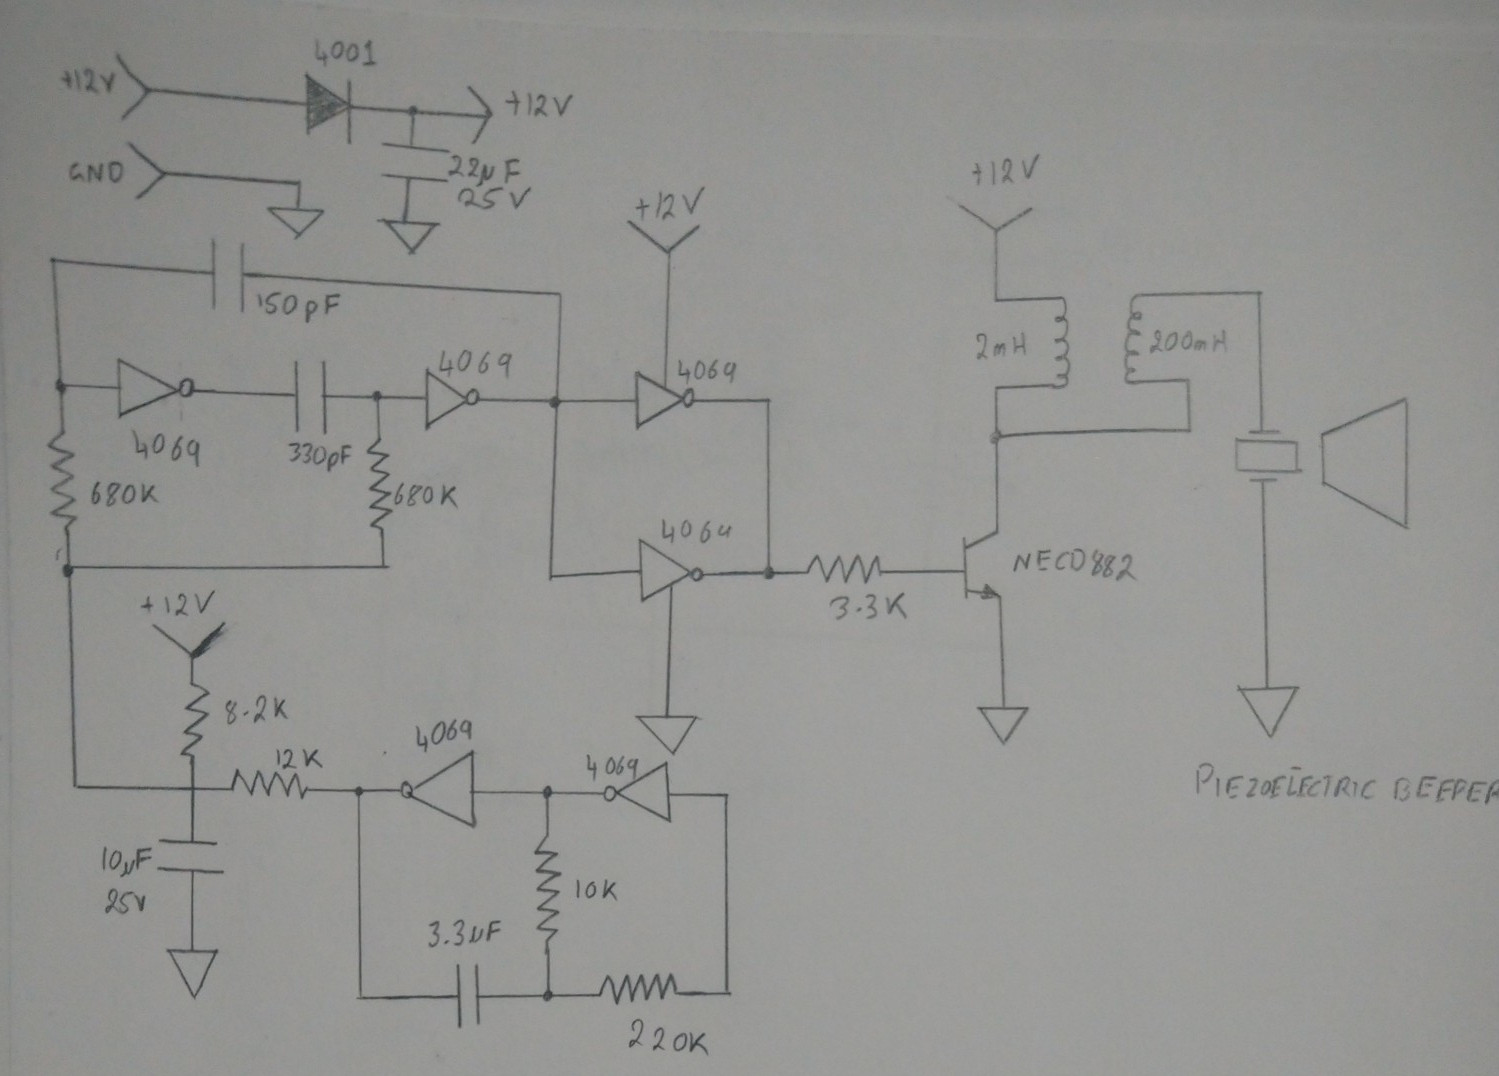capacitor.unpolarized: (372, 130, 452, 202), (286, 355, 333, 439), (203, 234, 249, 316), (154, 832, 227, 878), (448, 960, 486, 1032)
crossover: (182, 778, 209, 799)
diode: (292, 71, 365, 154)
gnd: (1226, 675, 1310, 742), (371, 212, 445, 262), (632, 706, 699, 758), (260, 200, 331, 245), (972, 701, 1037, 749), (164, 945, 216, 1002)
inductor: (1044, 290, 1084, 396), (1116, 286, 1148, 390)
junction: (982, 421, 1014, 448), (54, 556, 84, 582), (540, 390, 568, 416), (756, 561, 783, 587), (47, 371, 74, 396), (347, 986, 376, 1010), (363, 384, 391, 407), (537, 781, 562, 805), (400, 97, 426, 121), (533, 986, 561, 1009), (1177, 416, 1205, 439), (1250, 285, 1276, 307), (549, 284, 573, 307), (756, 389, 781, 411), (44, 250, 68, 272), (1175, 369, 1201, 389), (542, 566, 566, 587), (348, 782, 371, 801), (716, 785, 737, 806), (716, 982, 737, 1002), (68, 776, 86, 797), (987, 292, 1009, 309), (374, 560, 397, 576), (287, 174, 308, 191), (989, 383, 1007, 399)
not: (395, 749, 490, 833), (111, 348, 201, 423), (598, 758, 679, 826), (415, 363, 490, 433), (635, 536, 705, 606), (630, 366, 699, 433)
resistor: (525, 825, 567, 949), (40, 422, 84, 537), (358, 428, 399, 541), (219, 763, 318, 806), (797, 550, 896, 587), (594, 970, 687, 1006), (178, 676, 209, 764)
speaker: (1226, 392, 1425, 535)
terminal: (949, 197, 1042, 247), (621, 215, 713, 263), (148, 618, 234, 664), (112, 50, 161, 123), (125, 138, 175, 206), (459, 80, 503, 147)
text: (1186, 756, 1499, 818), (1006, 544, 1143, 586), (625, 1017, 712, 1057), (251, 287, 347, 325), (962, 147, 1045, 188), (823, 589, 915, 626), (127, 427, 205, 470), (135, 580, 222, 619), (628, 181, 708, 223), (654, 513, 741, 550), (421, 913, 504, 952), (499, 85, 578, 124), (434, 345, 516, 382), (1145, 325, 1232, 357), (310, 33, 381, 71), (405, 715, 479, 751), (222, 690, 292, 728), (447, 152, 526, 186), (967, 328, 1036, 365), (83, 477, 161, 510), (284, 439, 356, 473), (672, 352, 741, 389), (453, 185, 535, 214), (391, 479, 462, 511), (63, 155, 127, 188), (57, 63, 116, 98), (269, 741, 331, 774), (581, 750, 642, 783), (568, 872, 623, 907), (99, 845, 152, 879), (104, 885, 149, 918)
transistor: (955, 522, 1017, 607)
